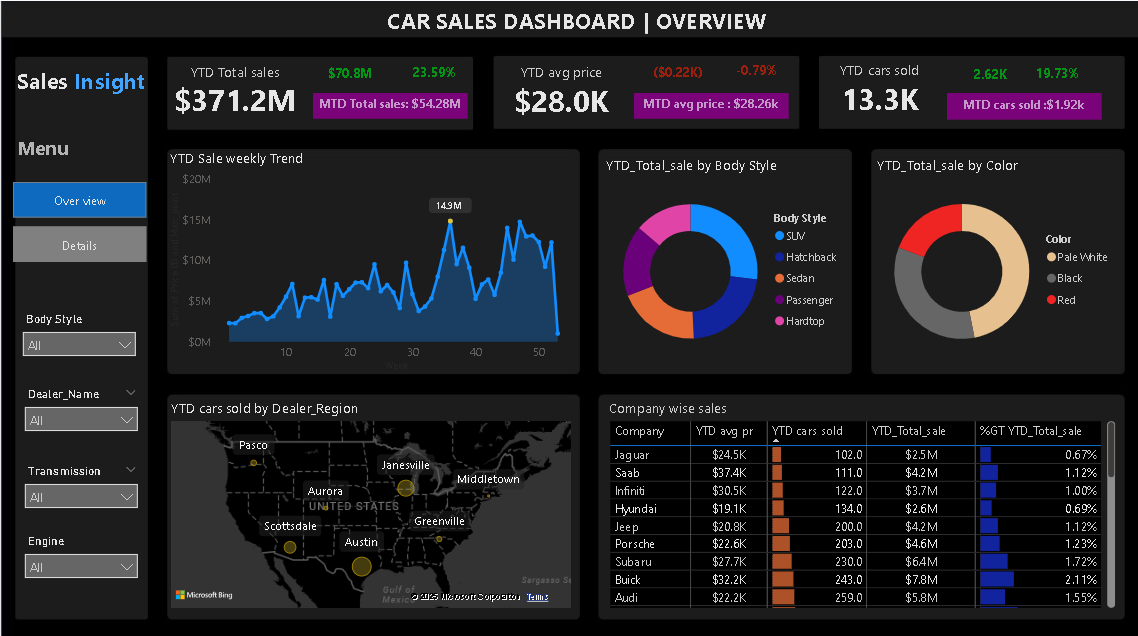

What the dashboard file says about the page in this screenshot:
{"tool":"powerbi","page":{"name":"Over view ","canvas":[1280,720],"ordinal":0},"visuals":[{"type":"card","title":"YTD Total sales","fields":{"Values":["car_data.YTD_Total_sale"]},"box":[185.6,69.8,155.2,63],"z":0},{"type":"card","fields":{"Values":["car_data.Sales Differe"]},"box":[355.5,64.1,74.2,38.2],"z":1000},{"type":"card","fields":{"Values":["car_data.YoY Sales Growth"]},"box":[429.8,64.1,114.8,36],"z":2000},{"type":"card","fields":{"Values":["car_data.MTD KPI"]},"box":[351,103.5,174.4,29.2],"z":3000},{"type":"card","title":"YTD avg price","fields":{"Values":["car_data.YTD avg pr"]},"box":[541.1,69.8,178.9,64.1],"z":4000},{"type":"card","fields":{"Values":["car_data.avg price diff"]},"box":[712.1,63,99,39.4],"z":5000},{"type":"card","fields":{"Values":["car_data.YOY avg price Growth"]},"box":[799.9,60.8,99,39.4],"z":6000},{"type":"card","fields":{"Values":["car_data.MTD avg KPI"]},"box":[712.1,103.5,174.4,29.2],"z":7000},{"type":"card","title":"YTD cars sold","fields":{"Values":["Table.YTD cars sold"]},"box":[898.9,67.5,178.9,64.1],"z":8000},{"type":"card","fields":{"Values":["Measere.cars sold diff"]},"box":[1064,64,98.3,40],"z":9000},{"type":"card","fields":{"Values":["Measere.YOY car sold Growth"]},"box":[1138.5,64.1,99,39.4],"z":10000},{"type":"card","fields":{"Values":["Measere.MTD cars sold KPI"]},"box":[1064,104,173.7,29.7],"z":11000},{"type":"areaChart","title":"YTD Sale weekly Trend","fields":{"Category":["calendar_table.Week"],"Y":["Sum(car_data.Price ($))","Measere.Max_point"]},"box":[185.1,166.9,462.9,254.9],"z":12000},{"type":"donutChart","fields":{"Category":["car_data.Body Style"],"Y":["car_data.YTD_Total_sale"]},"box":[676.1,174.4,277.9,239.6],"z":13000},{"type":"donutChart","fields":{"Y":["car_data.YTD_Total_sale"],"Category":["car_data.Color"]},"box":[981,174.4,277.9,239.6],"z":14000},{"type":"map","fields":{"Category":["car_data.Dealer_Region"],"Size":["Measere.YTD cars sold"]},"box":[186.2,448.1,459.4,240.4],"z":15000},{"type":"tableEx","title":"Company wise sales","fields":{"Values":["car_data.Company","car_data.YTD avg pr","Measere.YTD cars sold","car_data.YTD_Total_sale1","car_data.YTD_Total_sale"]},"box":[679.5,448.1,579,240.4],"z":16000},{"type":"textbox","box":[430.1,0,447,41.8],"z":17000},{"type":"slicer","fields":{"Values":["car_data.Body Style"]},"box":[14.6,345.4,147.4,68.6],"z":18000},{"type":"slicer","fields":{"Values":["car_data.Dealer_Name"]},"box":[16.9,429.8,147.4,69.8],"z":19000},{"type":"slicer","fields":{"Values":["car_data.Transmission"]},"box":[16.9,516.4,147.4,68.6],"z":20000},{"type":"slicer","fields":{"Values":["car_data.Engine"]},"box":[16.9,595.1,147.4,68.6],"z":21000},{"type":"textbox","box":[13.5,67.5,164.2,149.6],"z":22000},{"type":"textbox","box":[13.5,144,136.1,59.6],"z":23000},{"type":"pageNavigator","box":[13.5,203.6,150.8,91.1],"z":24000}]}

Visuals, with their boxes in screenshot pixels (x1, y1, x2, y2), scaled from the page's 1280x720 canvas onto the 1138x636 screenshot:
"YTD Total sales" card: 165,62,303,117
card - car_data.Sales Differe: 316,57,382,90
card - car_data.YoY Sales Growth: 382,57,484,88
card - car_data.MTD KPI: 312,91,467,117
"YTD avg price" card: 481,62,640,118
card - car_data.avg price diff: 633,56,721,90
card - car_data.YOY avg price Growth: 711,54,799,89
card - car_data.MTD avg KPI: 633,91,788,117
"YTD cars sold" card: 799,60,958,116
card - Measere.cars sold diff: 946,57,1033,92
card - Measere.YOY car sold Growth: 1012,57,1100,91
card - Measere.MTD cars sold KPI: 946,92,1100,118
"YTD Sale weekly Trend" areaChart: 165,147,576,373
donutChart - car_data.Body Style x car_data.YTD_Total_sale: 601,154,848,366
donutChart - car_data.YTD_Total_sale x car_data.Color: 872,154,1119,366
map - car_data.Dealer_Region x Measere.YTD cars sold: 166,396,574,608
"Company wise sales" tableEx: 604,396,1119,608
textbox: 382,0,780,37
slicer - car_data.Body Style: 13,305,144,366
slicer - car_data.Dealer_Name: 15,380,146,441
slicer - car_data.Transmission: 15,456,146,517
slicer - car_data.Engine: 15,526,146,586
textbox: 12,60,158,192
textbox: 12,127,133,180
pageNavigator: 12,180,146,260
